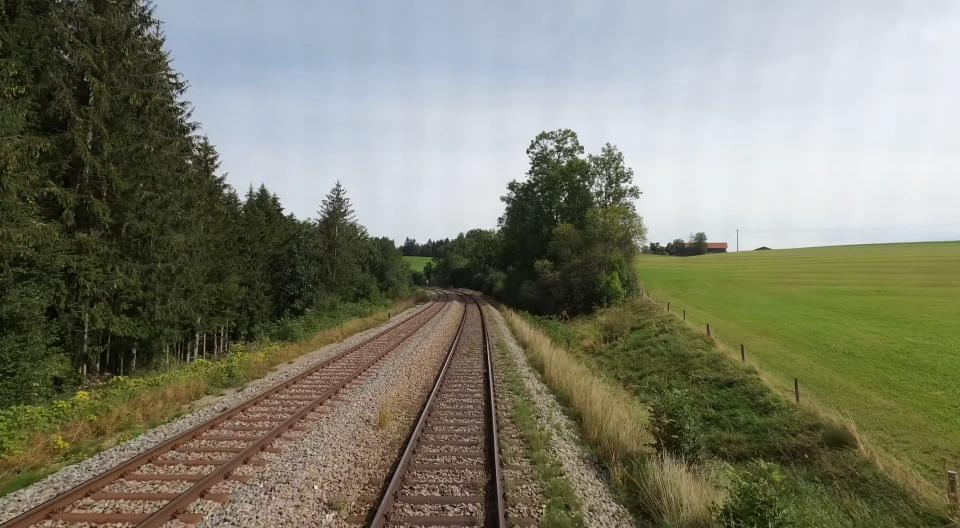Plant: (497, 340, 584, 528), (547, 409, 565, 437), (378, 402, 396, 430), (327, 496, 347, 512), (527, 368, 545, 382), (571, 438, 582, 446), (563, 423, 573, 430)
